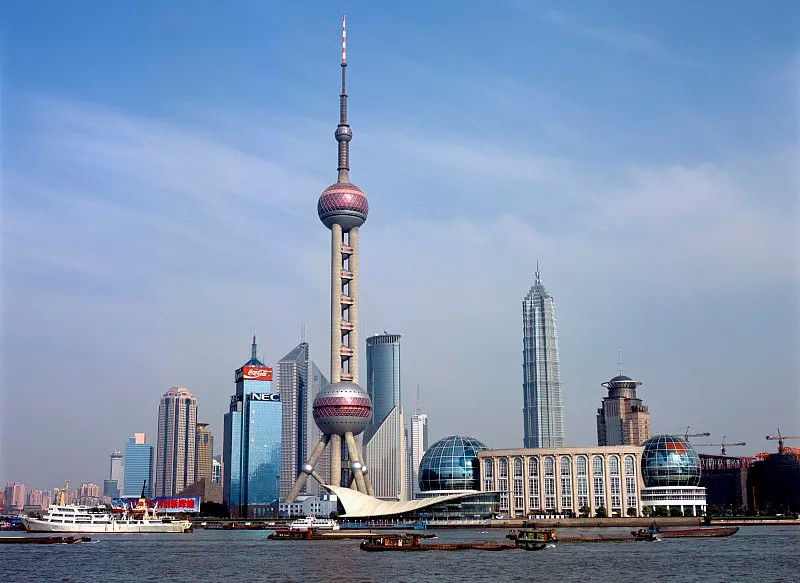Oriental: (284, 14, 374, 501)
